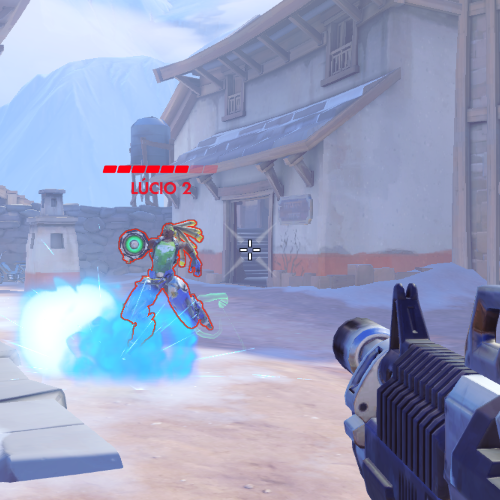hpbar: (103, 165, 218, 174)
